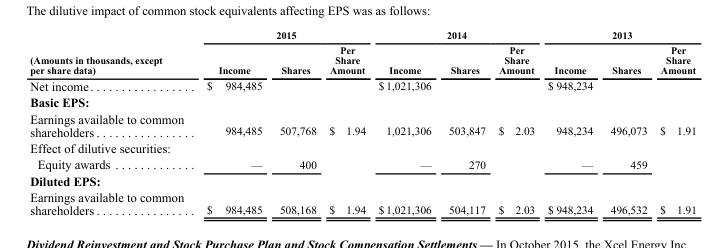table: (29, 28, 695, 216)
table column: (29, 28, 194, 216), (194, 28, 270, 216), (371, 28, 439, 216), (540, 28, 601, 216), (270, 28, 322, 216), (439, 28, 491, 216), (601, 28, 652, 216), (322, 28, 371, 216), (491, 28, 540, 216), (652, 28, 695, 216)
table column header: (29, 28, 695, 77)
table projected row header: (29, 93, 695, 110), (29, 139, 695, 155), (29, 172, 695, 188)
table row: (29, 41, 695, 77), (29, 110, 695, 139), (29, 188, 695, 216), (29, 93, 695, 110), (29, 155, 695, 172), (29, 77, 695, 93), (29, 139, 695, 155), (29, 172, 695, 188), (29, 28, 695, 41)
table spanning cell: (29, 28, 194, 77), (194, 28, 371, 41), (371, 28, 540, 41), (540, 28, 695, 41)
